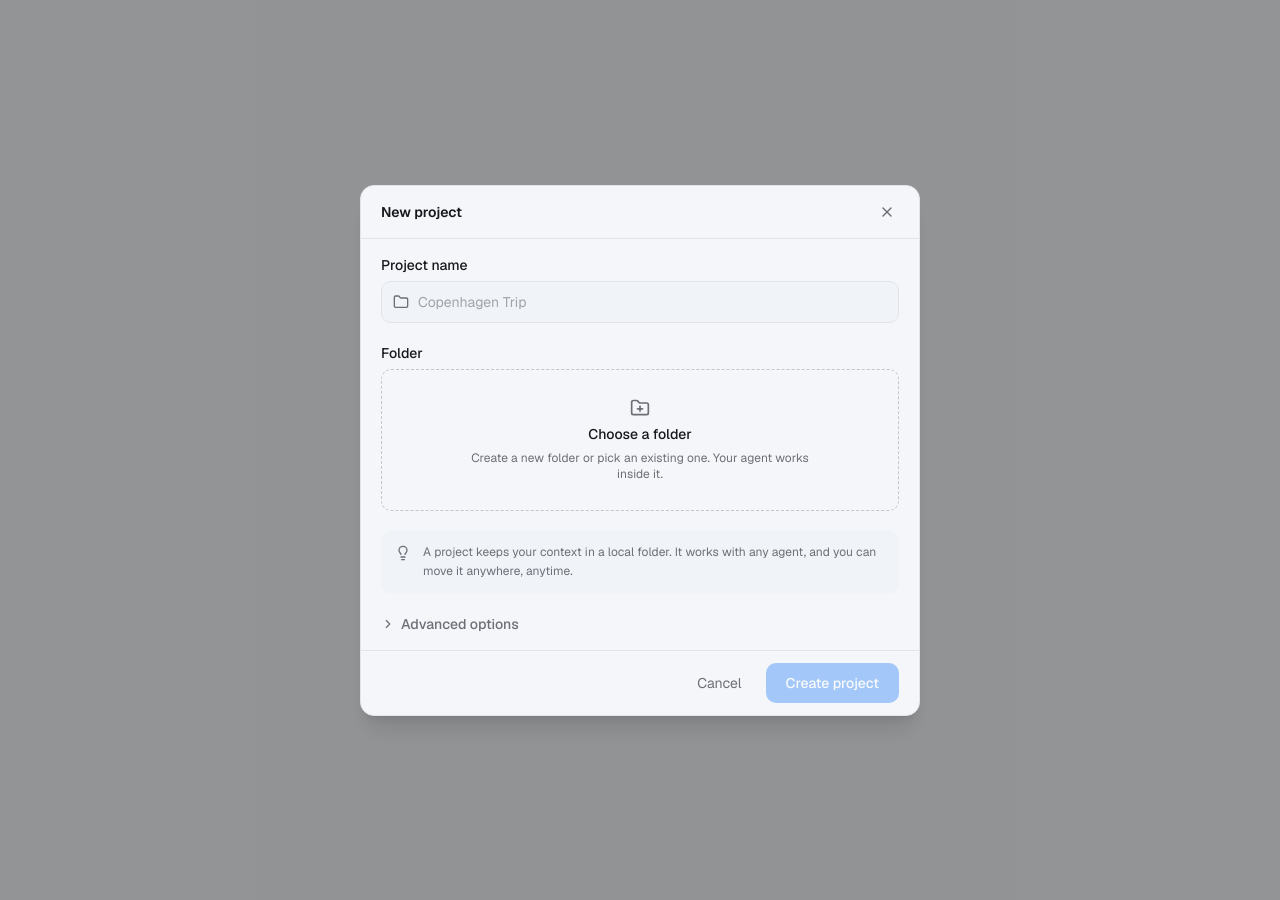
Scenario: CreateProject — name and folder are separate fields › shows the picked folder as a row (name + path) and collapses the browser
Click the text "Choose a folder".
click(640, 434)  # box left=588, top=424, right=692, bottom=444
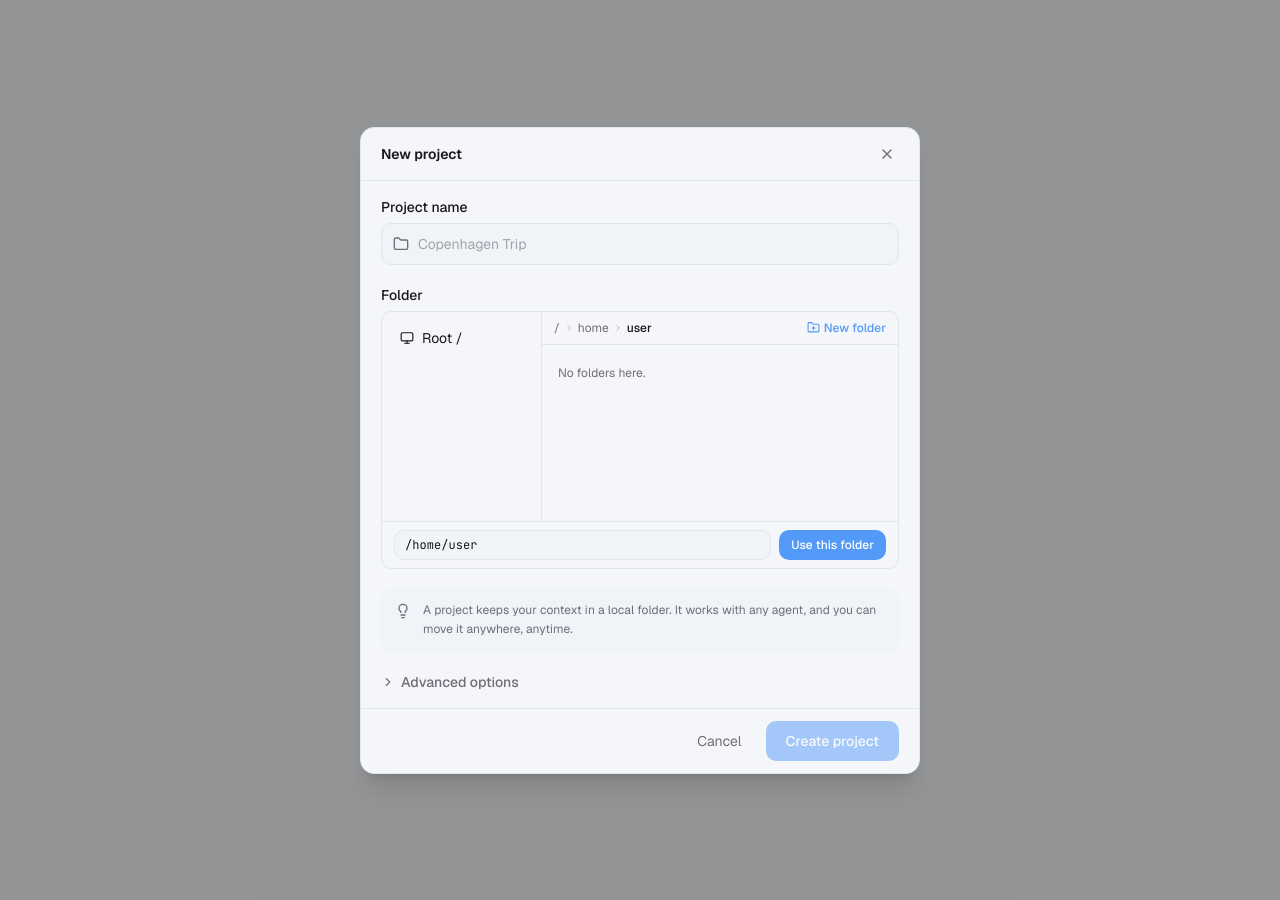
Expected: the button "New folder" is enabled, left=807, top=320, right=886, bottom=336
Click the button "Use this folder".
click(833, 544)  # box left=779, top=530, right=886, bottom=560
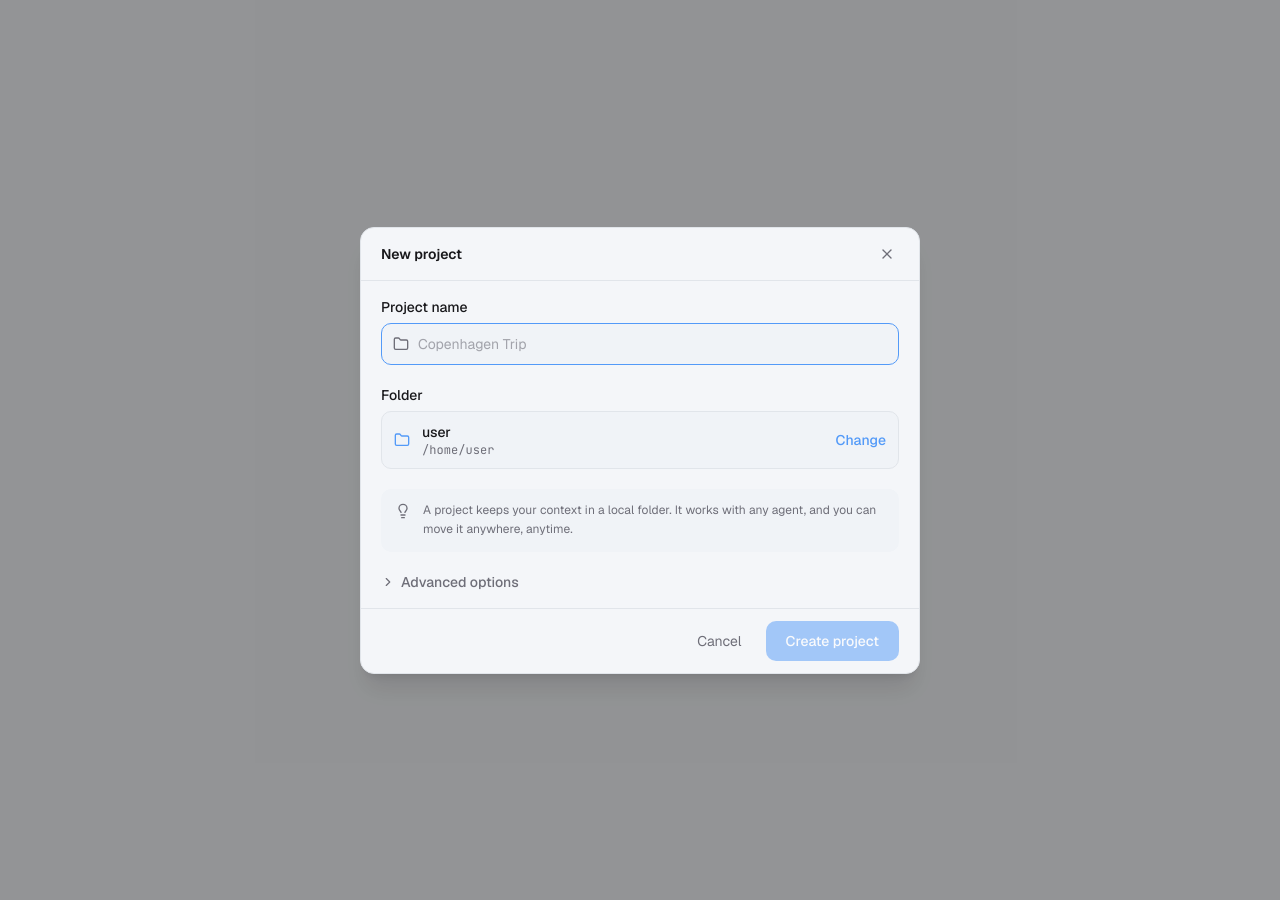
Now the element with test id "create-project-folder-row" shows "user", box left=422, top=422, right=451, bottom=440
Now the element with test id "create-project-folder-row" shows "/home/user", box left=422, top=442, right=495, bottom=458
Now the button "Use this folder" is gone
